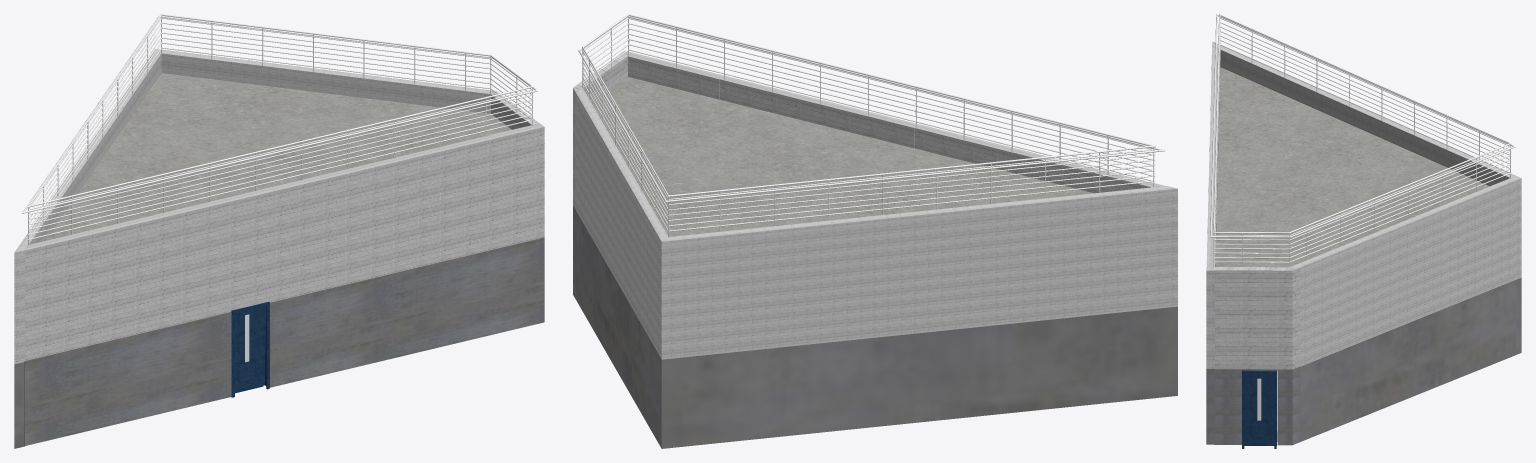
3 views of the same model, side by side, from view 1: azimuth 30°, elevation 25°; view 2: azimuth 150°, elevation 25°; view 3: azimuth 270°, elevation 25° (orthographic). The views are drawn at different scales.
Parts seen in each view (by area): view 1: Cube.001, Cube, Floor Generic - 12" [356162], Railing Guardrail - Pipe [356397], Basic Wall Generic - 8" [356073], Basic Wall 7yu7tyu [355871], Single-Flush 36" x 84" [356335], Top Rail Type Circular - 1 1/2" [356432], Handrail Type Circular - 1 1/2" [359476], Basic Wall Generic - 8" [356007]; view 2: Basic Wall 7yu7tyu [355871], Floor Generic - 12" [356162], Basic Wall Generic - 8" [356073], Railing Guardrail - Pipe [356397], Cube.001, Top Rail Type Circular - 1 1/2" [356432], Handrail Type Circular - 1 1/2" [359476], Basic Wall Generic - 8" [356007]; view 3: Basic Wall Generic - 8" [356073], Floor Generic - 12" [356162], Basic Wall Generic - 8" [356007], Basic Wall 7yu7tyu [355871], Railing Guardrail - Pipe [356397], Single-Flush 36" x 84" [356335].001, Cube.001, Top Rail Type Circular - 1 1/2" [356432], Handrail Type Circular - 1 1/2" [359476], Cube.
Part boxes in pixels (x1,y1,x2,y2): Cube.001: (25, 123, 544, 360); Cube: (24, 237, 544, 445); Floor Generic - 12" [356162]: (45, 73, 511, 240); Railing Guardrail - Pipe [356397]: (28, 17, 532, 240); Basic Wall Generic - 8" [356073]: (161, 50, 490, 113); Basic Wall 7yu7tyu [355871]: (14, 49, 163, 448); Single-Flush 36" x 84" [356335]: (231, 301, 269, 397); Top Rail Type Circular - 1 1/2" [356432]: (27, 14, 533, 207); Handrail Type Circular - 1 1/2" [359476]: (22, 15, 537, 213); Basic Wall Generic - 8" [356007]: (485, 89, 539, 129); Basic Wall 7yu7tyu [355871]: (659, 186, 1177, 448); Floor Generic - 12" [356162]: (591, 77, 1092, 236); Basic Wall Generic - 8" [356073]: (576, 88, 667, 444); Railing Guardrail - Pipe [356397]: (582, 18, 1155, 231); Cube.001: (619, 50, 1165, 193); Top Rail Type Circular - 1 1/2" [356432]: (582, 14, 1155, 197); Handrail Type Circular - 1 1/2" [359476]: (578, 16, 1164, 202); Basic Wall Generic - 8" [356007]: (573, 53, 627, 299); Basic Wall Generic - 8" [356073]: (1290, 178, 1515, 441); Floor Generic - 12" [356162]: (1215, 67, 1489, 267); Basic Wall Generic - 8" [356007]: (1214, 267, 1300, 445); Basic Wall 7yu7tyu [355871]: (1212, 41, 1521, 354); Railing Guardrail - Pipe [356397]: (1213, 17, 1510, 262); Single-Flush 36" x 84" [356335].001: (1242, 370, 1276, 448); Cube.001: (1206, 46, 1220, 368); Top Rail Type Circular - 1 1/2" [356432]: (1213, 14, 1511, 233); Handrail Type Circular - 1 1/2" [359476]: (1210, 14, 1515, 237); Cube: (1206, 369, 1214, 444).
Size of the model in its own units: 14.12 by 6.08 by 8.17.
8 materials, 6 textured.
